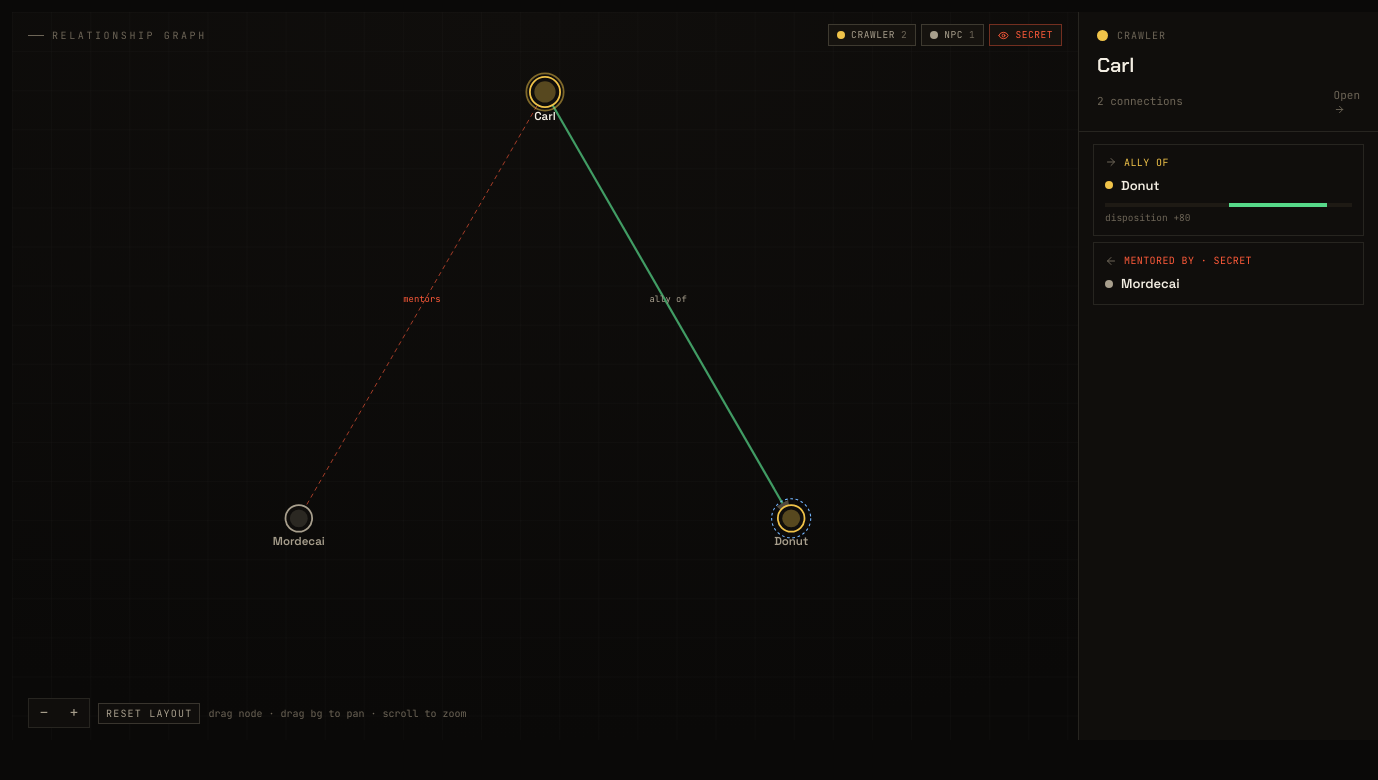
it: RelationshipGraph › re-selects the other entity when a connection row is clicked
The image size is (1378, 780).
Click the connection row leading to Donut.
Step 1. Click the button with aria-label "Select Donut connection" → (1146, 162), box left=1093, top=144, right=1364, bottom=236
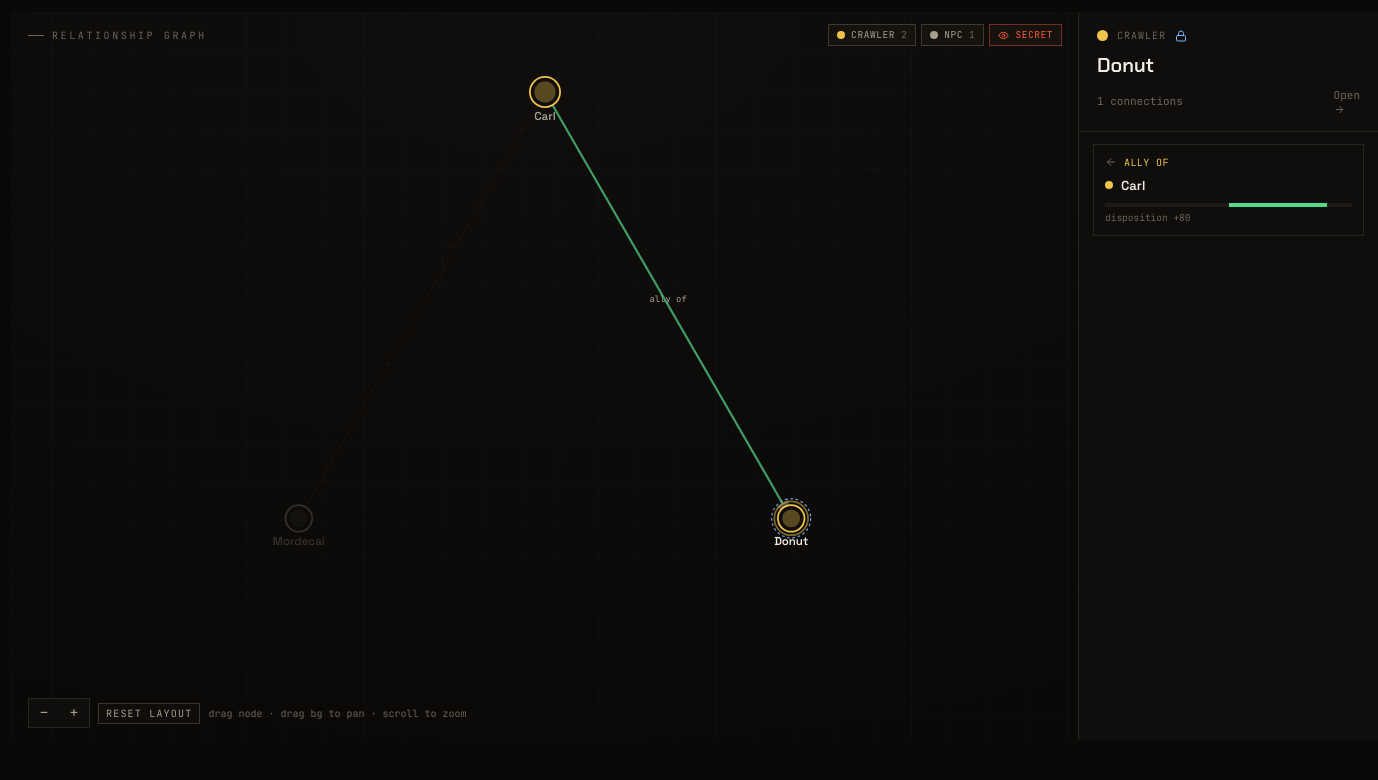
Expected: the heading "Donut" is shown, left=1097, top=52, right=1154, bottom=78
